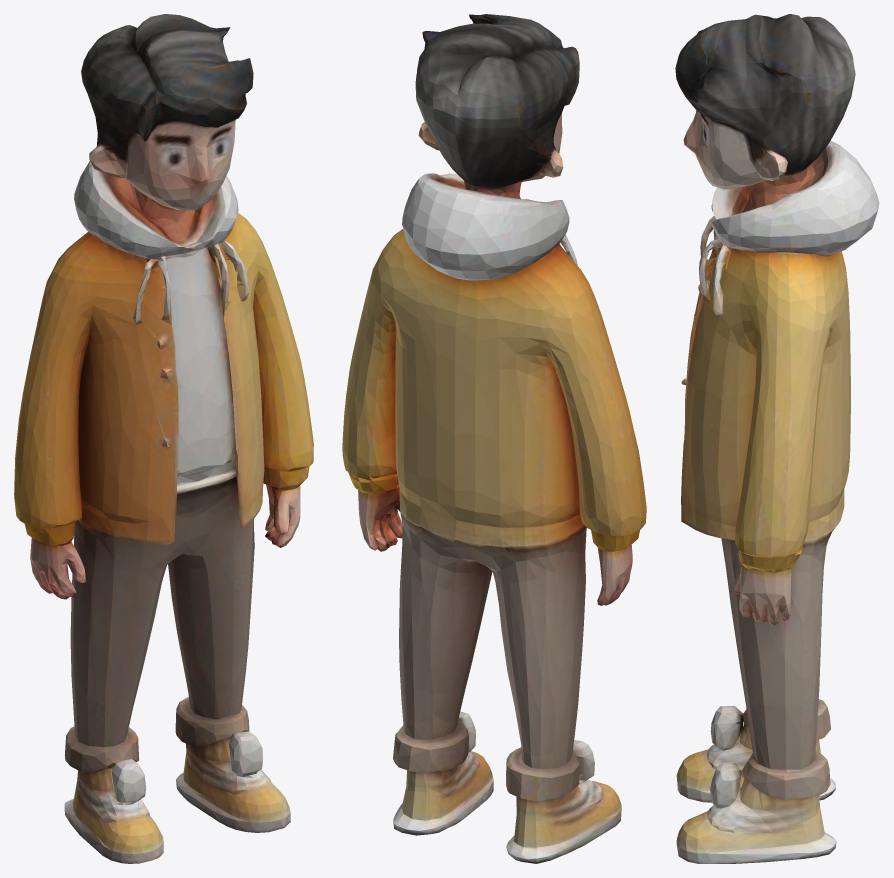
File: person.glb
3 renders of one model, left to right at view 1: azimuth 30°, elevation 25°; view 2: azimuth 150°, elevation 25°; view 3: azimuth 270°, elevation 25°, orthographic. The views are drawn at different scales.
Visible parts, largest first — view 1: world; view 2: world; view 3: world.
Boxes of the visible parts, bbox=[...] form: world: bbox=[14, 14, 313, 863]; world: bbox=[342, 14, 646, 863]; world: bbox=[675, 14, 879, 863].
Size of the model in its own units: 0.385 by 0.9988 by 0.2305.
1 material, 1 textured.
